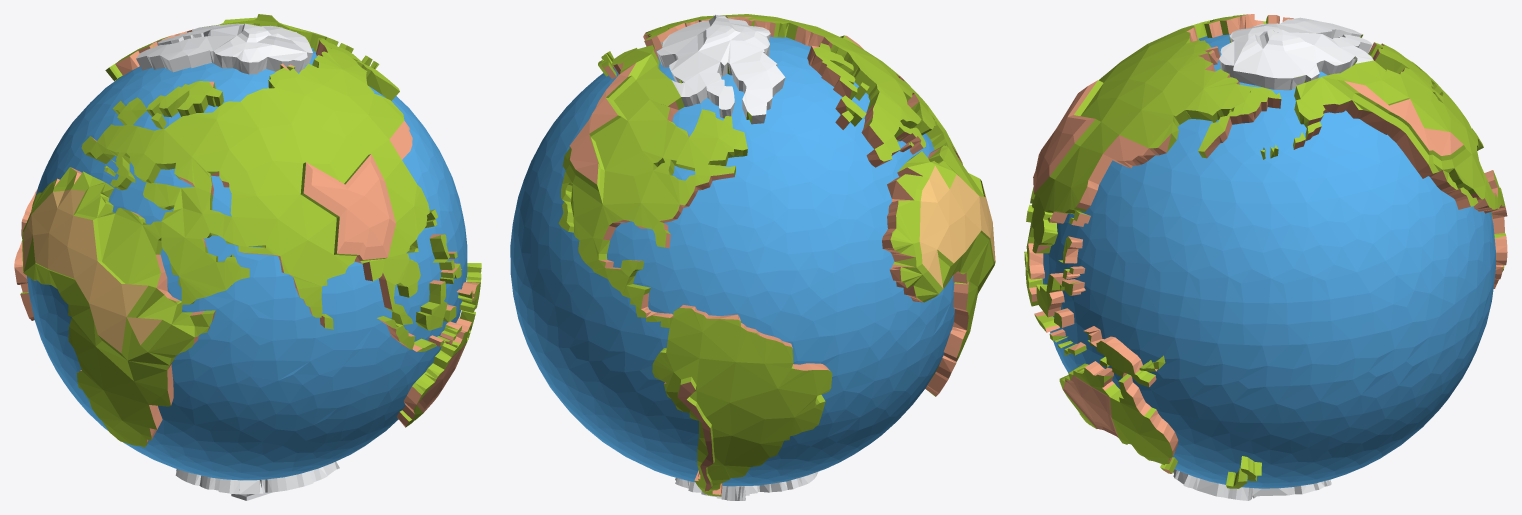
Rendered from low_poly_earth.glb.
The picture shows the model from 3 angles, left to right: view 1: azimuth 30°, elevation 25°; view 2: azimuth 150°, elevation 25°; view 3: azimuth 270°, elevation 25°; orthographic projection. The views are drawn at different scales.
Parts seen in each view (by area): view 1: Object_Planet_0; view 2: Object_Planet_0; view 3: Object_Planet_0.
Boxes of the visible parts, x1,y1,x2,y2 form: Object_Planet_0: (14,14,481,500); Object_Planet_0: (510,14,995,500); Object_Planet_0: (1024,14,1507,500).
Bounding box in the file's own units: 2.09 × 2.23 × 2.09.
1 material, 1 textured.
